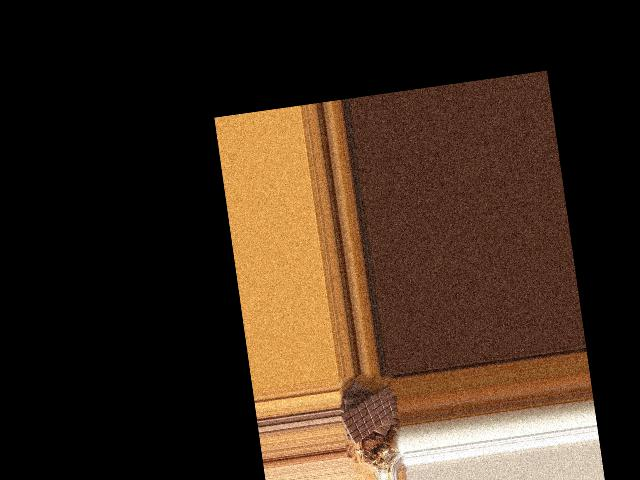chocolate: (337, 384, 400, 448)
